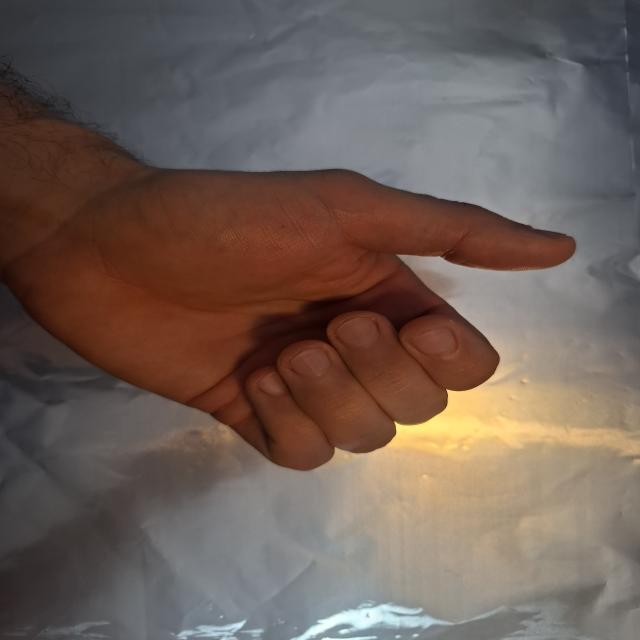glove_off: (2, 160, 580, 474)
